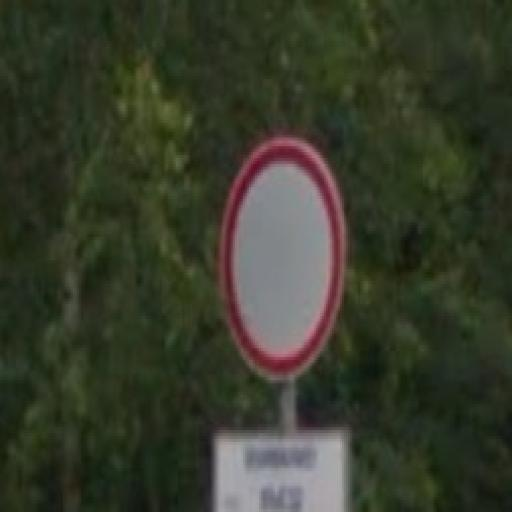traffic_sign: (222, 139, 347, 382)
